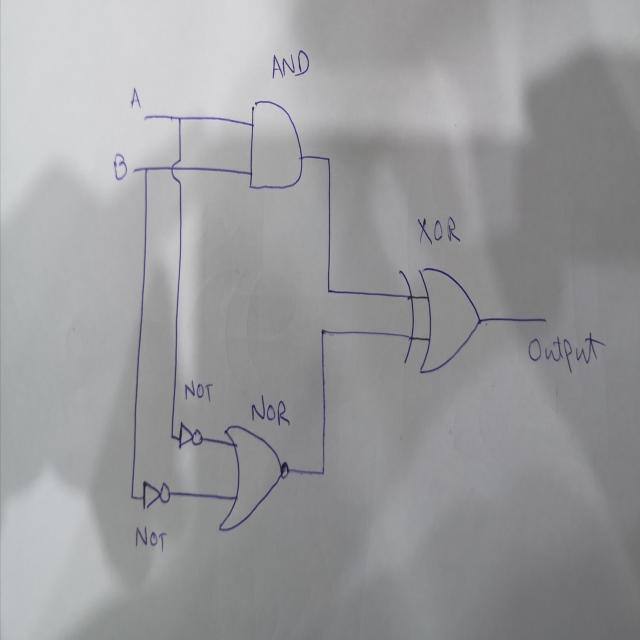crossover: (169, 155, 182, 184)
junction: (317, 460, 328, 482), (321, 150, 333, 169), (318, 323, 326, 340), (175, 110, 184, 125), (325, 283, 332, 298), (142, 163, 150, 174), (129, 490, 135, 501), (169, 430, 175, 440)
terminal: (534, 312, 549, 326), (130, 165, 137, 178), (141, 112, 148, 124)
text: (527, 327, 600, 371), (417, 213, 462, 246), (250, 396, 291, 430), (271, 49, 310, 80), (134, 523, 167, 556), (183, 378, 214, 408), (114, 150, 128, 182), (128, 84, 142, 110)
